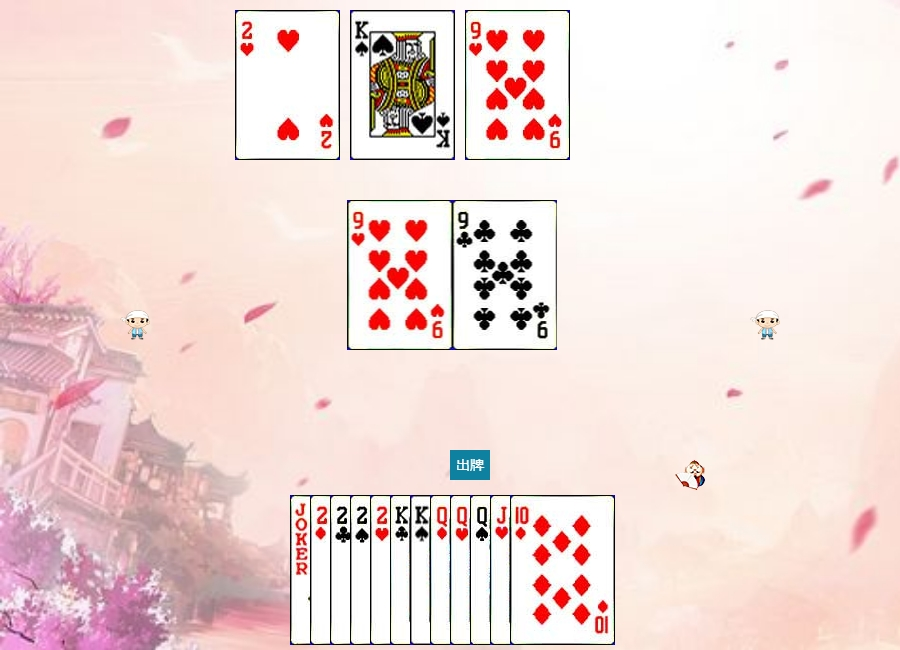10~1: (510, 495, 615, 645)
11~3: (490, 495, 595, 645)
12~1: (430, 495, 535, 645)
12~3: (450, 495, 555, 645)
12~4: (470, 495, 575, 645)
13~2: (390, 495, 495, 645)
13~4: (350, 10, 455, 160), (410, 495, 515, 645)
15~1: (310, 495, 415, 645)
15~2: (330, 495, 435, 645)
15~3: (235, 10, 340, 160), (370, 495, 475, 645)
15~4: (350, 495, 455, 645)
18~4: (290, 495, 395, 645)
9~2: (453, 200, 558, 350)
9~3: (465, 10, 570, 160), (348, 200, 453, 350)
